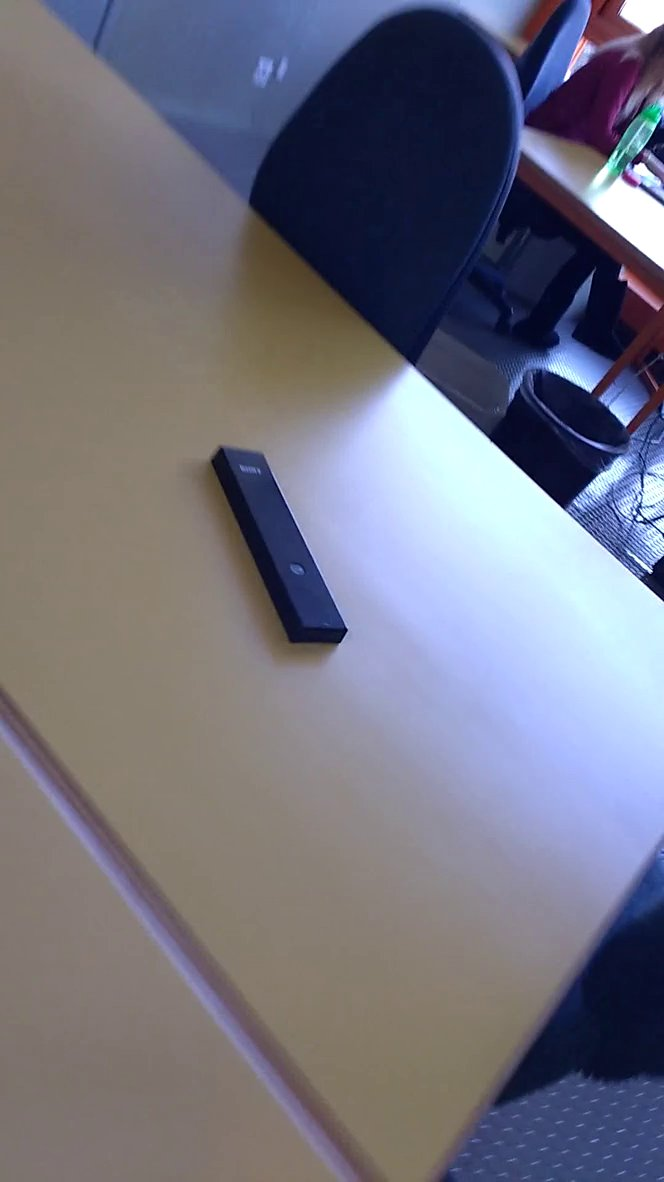bin: (501, 358, 641, 548)
chair: (238, 3, 525, 406), (515, 2, 602, 146)
remote: (201, 437, 358, 664)
